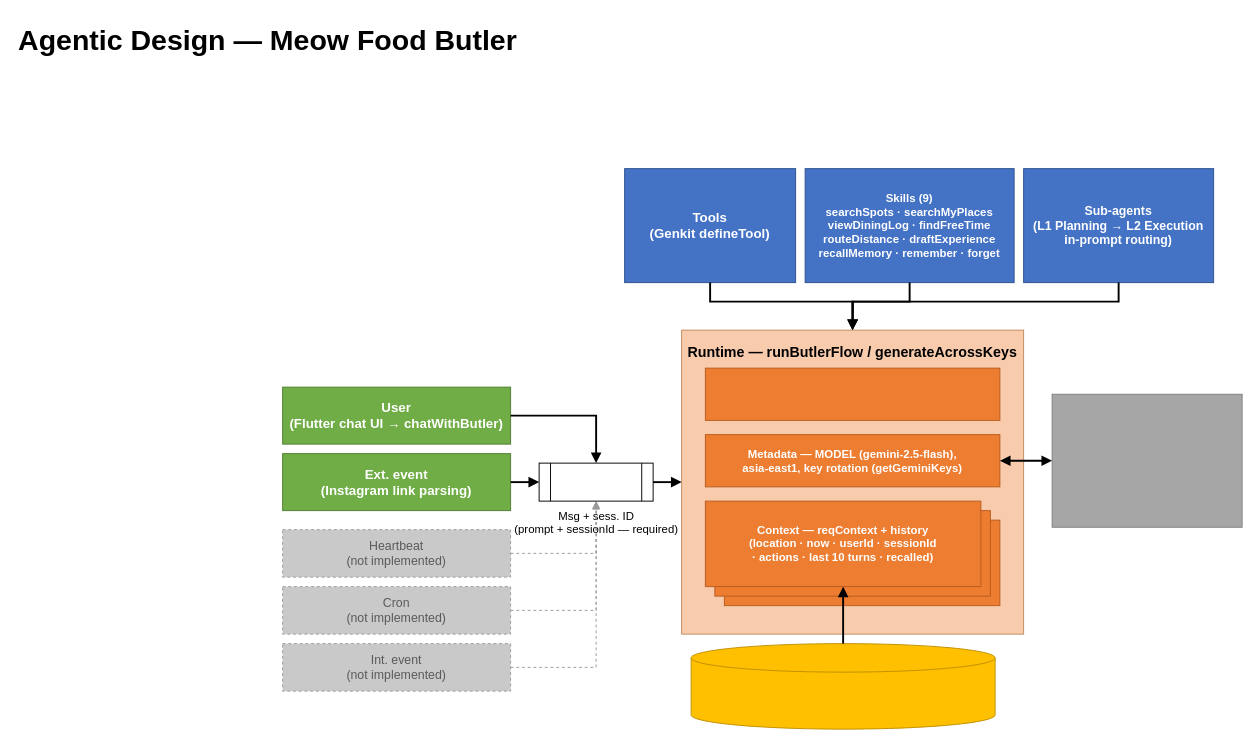
The diagram is 1259 pixels wide and 746 high, and some of its shapes have lost their labels. The shapes that lost their labels are listed below. From the top down, each one's centre as x and y in pixels, then its label:
At [852,393]: "Sys. prompt — buildSystem() (persona + clock + recalled memory)".
At [1146,460]: "LLM Gemini 2.5-Flash instance.generate()".
At [842,686]: "Memory RAG store (embed/remember/recall/forget) + session history (Firestore)".
